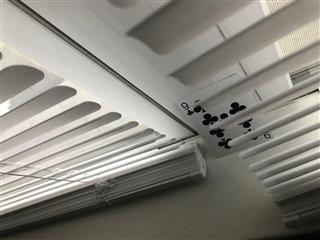NineOfClubs: (176, 73, 274, 159)
